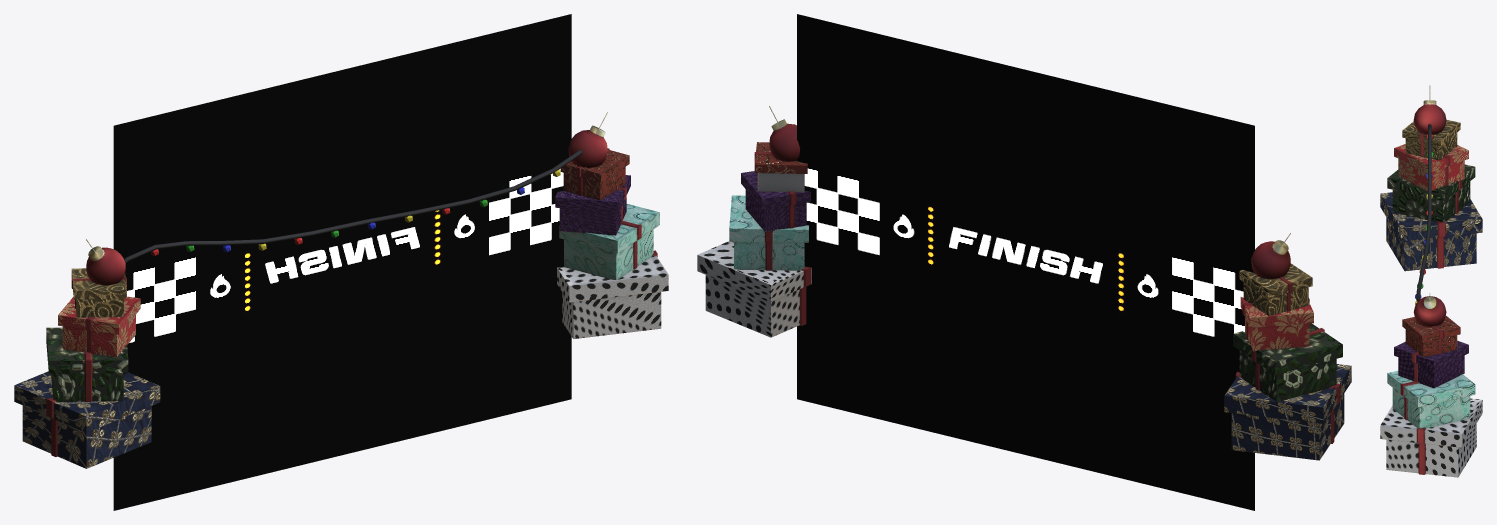
Rendered from track5FinishFlag.glb.
3 renders of one model, left to right at view 1: azimuth 30°, elevation 25°; view 2: azimuth 150°, elevation 25°; view 3: azimuth 270°, elevation 25°, orthographic. The views are drawn at different scales.
Visible parts, largest first — view 1: presentModel.002; view 2: presentModel.002; view 3: presentModel.002.
Boxes of the visible parts, x1=… form: presentModel.002: x1=14, y1=14, x2=668, y2=510; presentModel.002: x1=697, y1=14, x2=1351, y2=510; presentModel.002: x1=1380, y1=85, x2=1482, y2=477.
Size of the model in its own units: 5.93 by 3.48 by 1.03.
2 materials, 2 textured.
